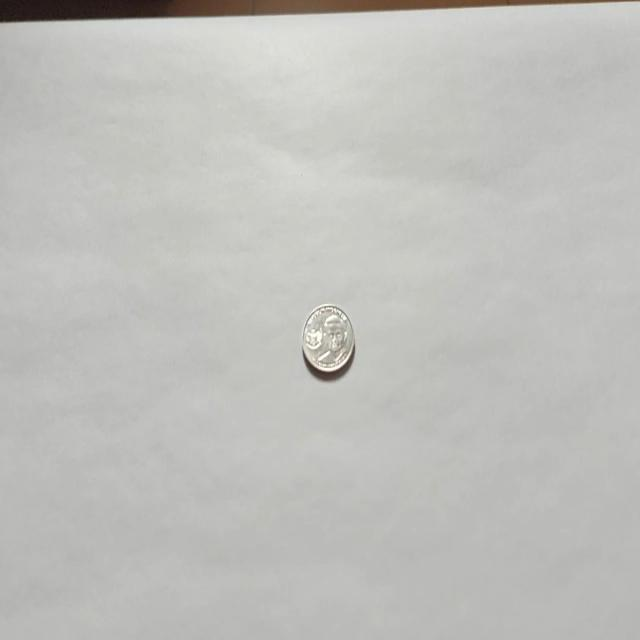seribu rupiah koin: (301, 302, 355, 375)
